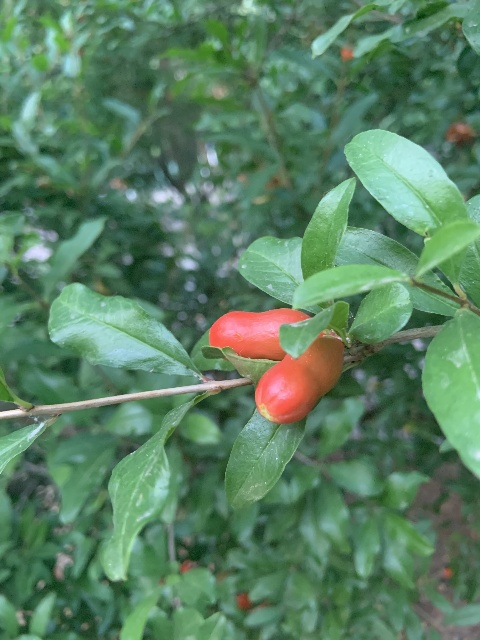bud: (255, 333, 344, 426), (209, 307, 313, 361)
